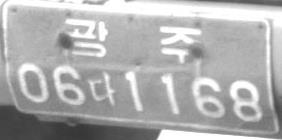0: (16, 61, 49, 104)
1: (154, 71, 184, 114), (119, 70, 148, 113)
6: (51, 63, 86, 107), (190, 75, 225, 119)
8: (228, 78, 263, 123)
광주_D: (64, 17, 202, 63)
다: (86, 70, 117, 106)
